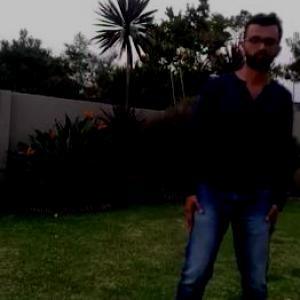follow: (180, 4, 296, 299)
